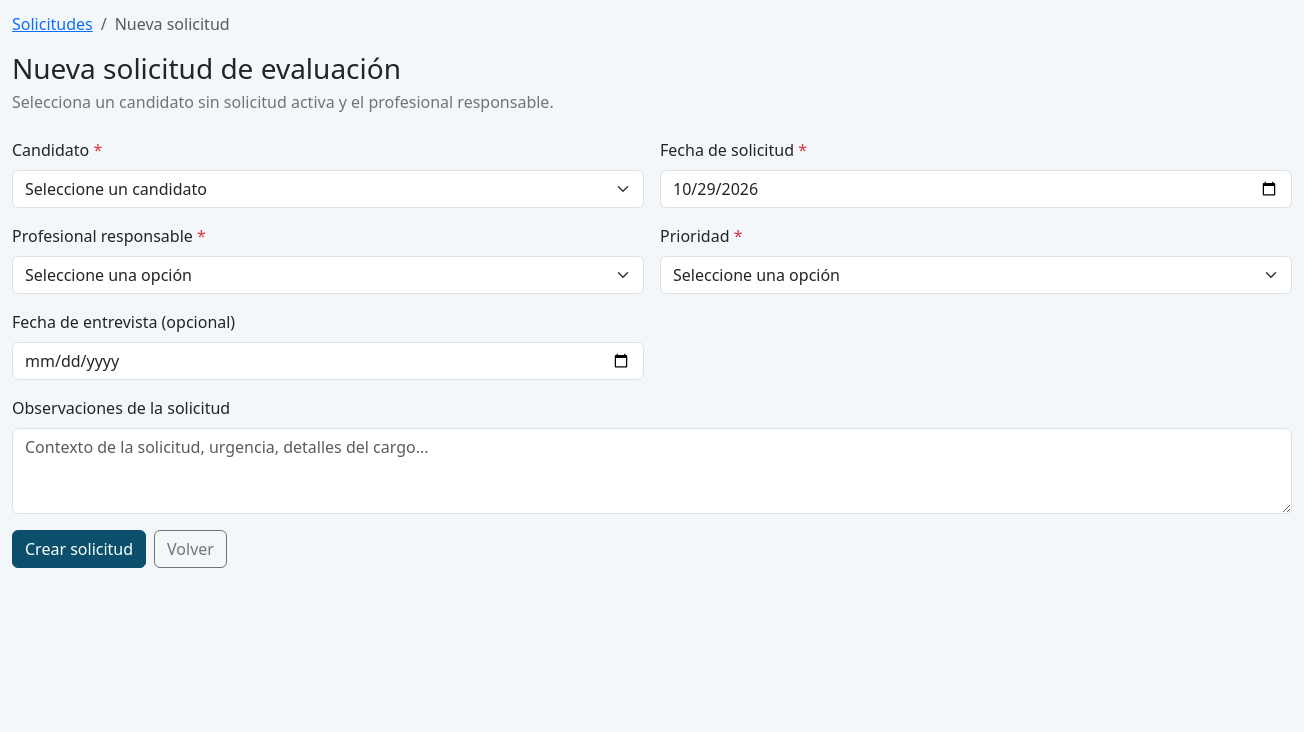
Test: SolicitudFormPage › marca errores al enviar el formulario vacío
The width and height of the screenshot is (1304, 732).
What coordinates should you click on to do the following:
click the button "Crear solicitud"
I would click on:
 (79, 549)
Its box is [12,530,146,568].
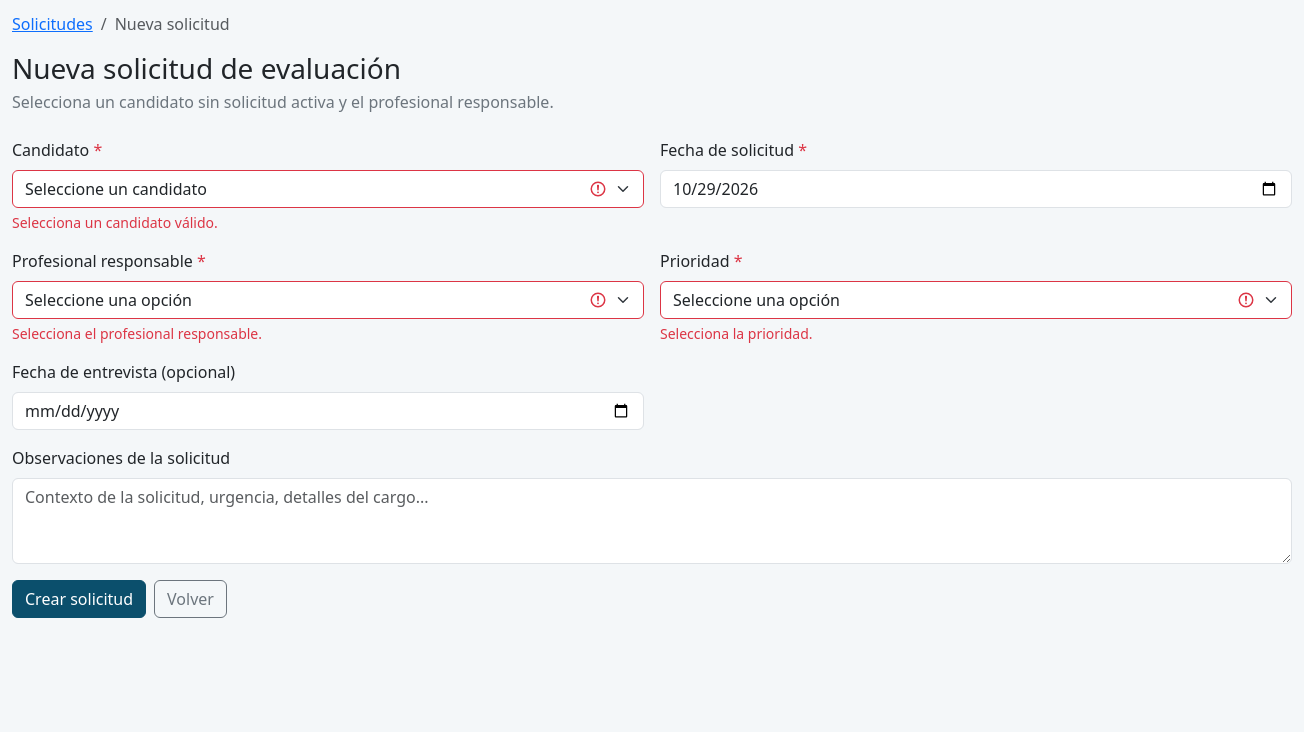
Result: the text "Selecciona un candidato válido." is shown at [12,213,218,232]
Result: the text "Selecciona el profesional responsable." is shown at [12,324,262,343]
